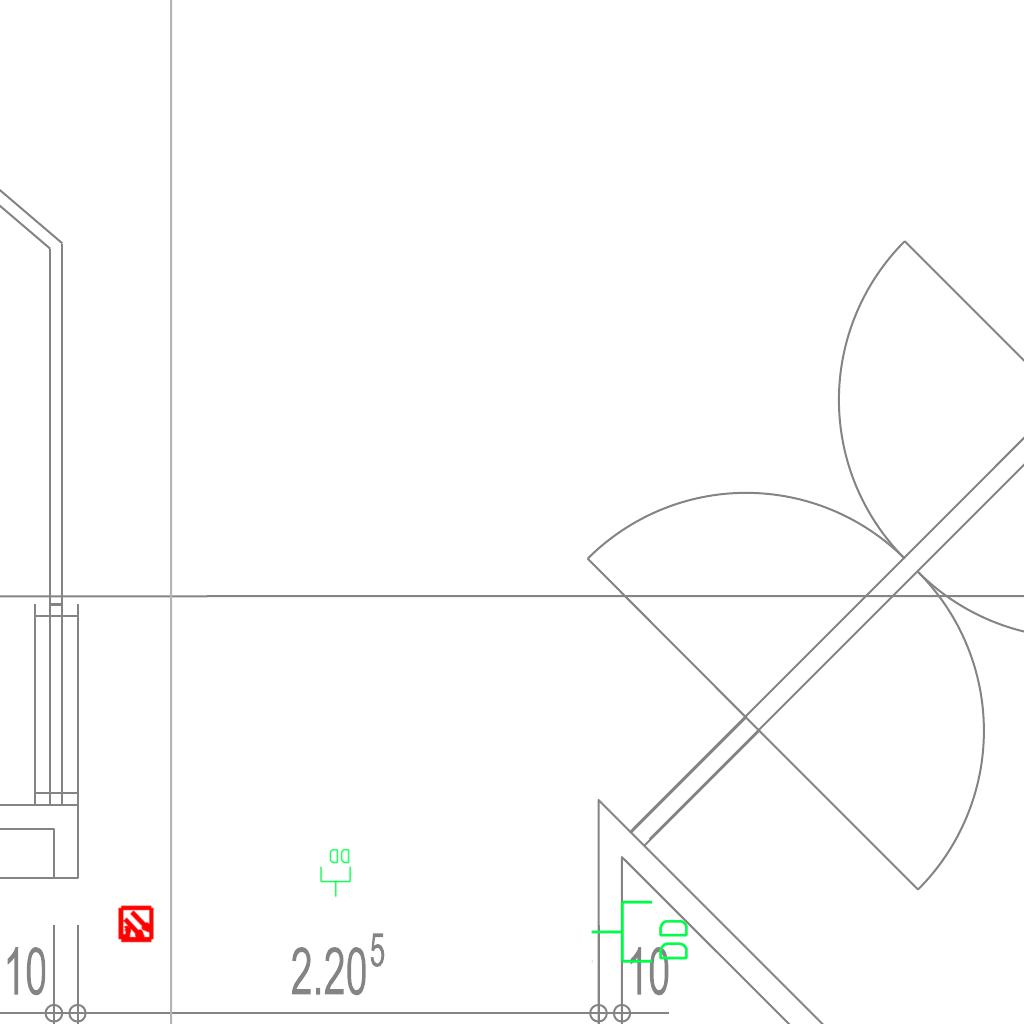Datenanschluss_zweifach: (589, 898, 692, 967), (319, 847, 353, 898)
OT_Multisensormelder_(Kombination_RMO_WMD): (108, 897, 164, 953)
